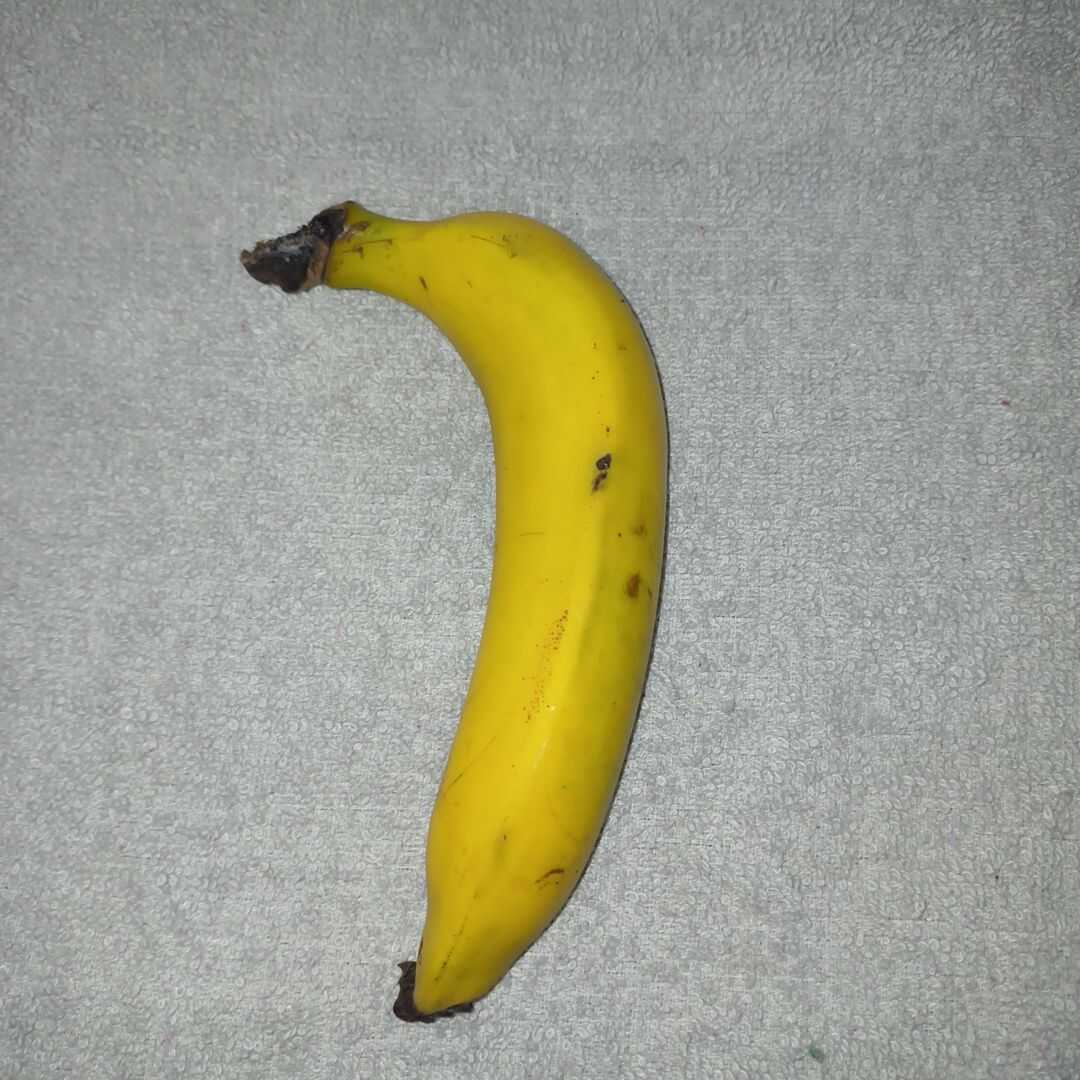banana: (235, 186, 678, 1040)
